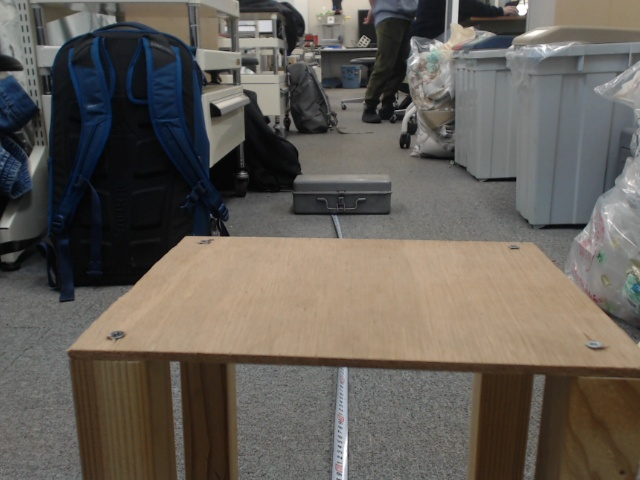desk: (293, 76, 523, 326)
